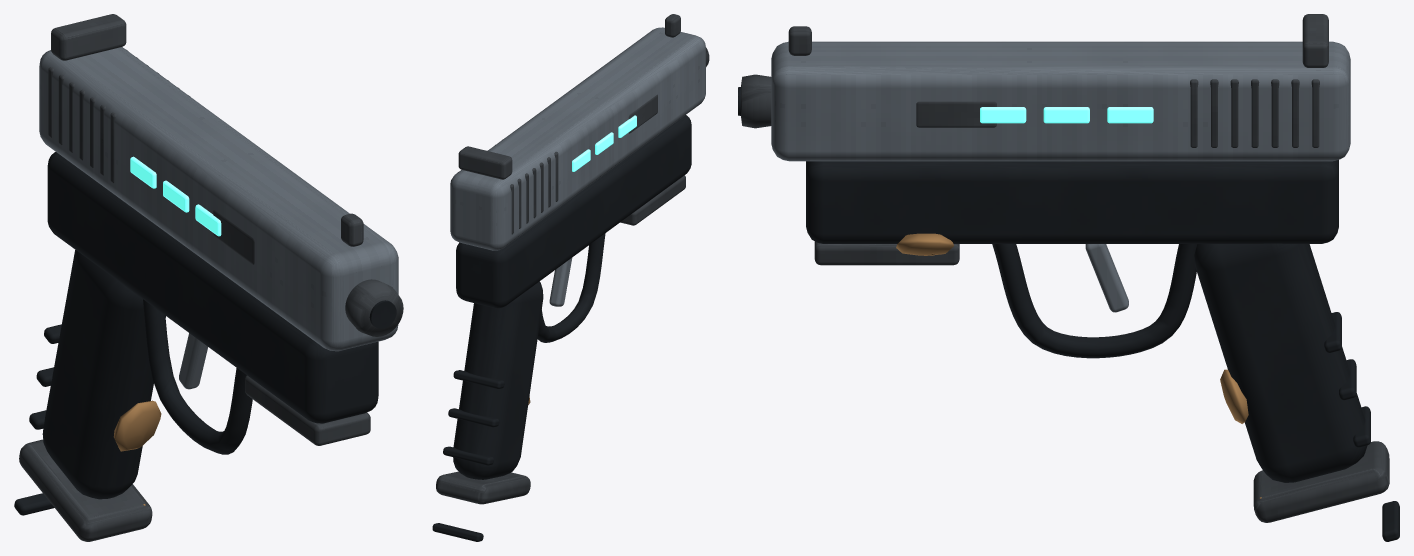
Rendered from sidearm.lod1.glb.
3 renders of one model, left to right at view 1: azimuth 30°, elevation 25°; view 2: azimuth 150°, elevation 25°; view 3: azimuth 270°, elevation 25°, orthographic. The views are drawn at different scales.
Visible parts, largest first — view 1: polymer / stippled polymer, alloy / machined anodized alloy, darksteel / oil-blackened fittings, peened pin, energy / emissive field channel; view 2: polymer / stippled polymer, alloy / machined anodized alloy, darksteel / oil-blackened fittings, energy / emissive field channel; view 3: polymer / stippled polymer, alloy / machined anodized alloy, darksteel / oil-blackened fittings, energy / emissive field channel, peened pin.
Part boxes in pixels (<box>): polymer / stippled polymer: <box>14,152,396,515</box>; alloy / machined anodized alloy: <box>39,47,398,389</box>; darksteel / oil-blackened fittings: <box>19,14,403,541</box>; peened pin: <box>113,400,161,451</box>; energy / emissive field channel: <box>130,156,221,236</box>; polymer / stippled polymer: <box>432,115,691,541</box>; alloy / machined anodized alloy: <box>450,27,705,306</box>; darksteel / oil-blackened fittings: <box>436,14,709,504</box>; energy / emissive field channel: <box>572,115,636,171</box>; polymer / stippled polymer: <box>738,87,1399,541</box>; alloy / machined anodized alloy: <box>771,41,1350,312</box>; darksteel / oil-blackened fittings: <box>741,14,1389,522</box>; energy / emissive field channel: <box>980,107,1153,123</box>; peened pin: <box>896,233,1248,423</box>.
Size of the model in its own units: 0.0375 by 0.1904 by 0.2286.
Materials: 5 (3 with a texture image).
